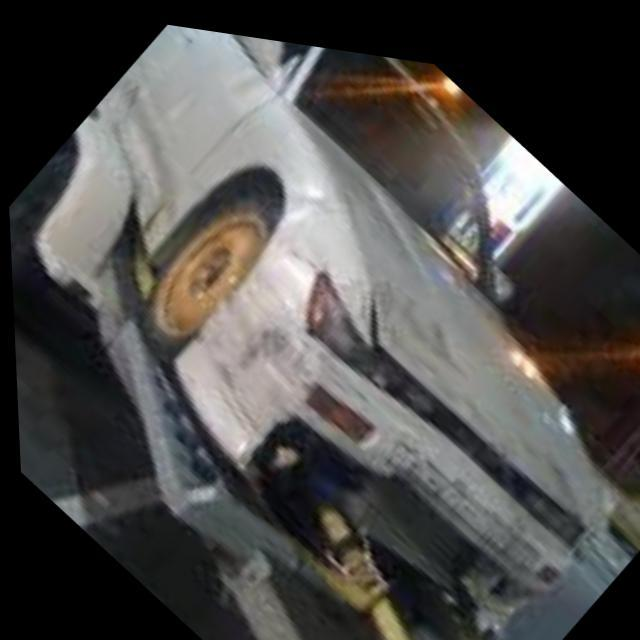dislocated part: (184, 244, 605, 637)
